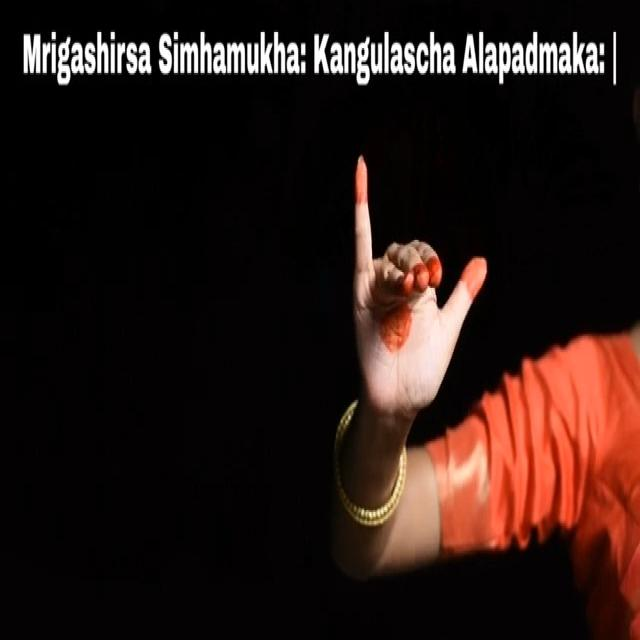Mrigashirsha: (344, 135, 492, 416)
bangle: (324, 422, 416, 535)
text: (13, 19, 621, 94)
